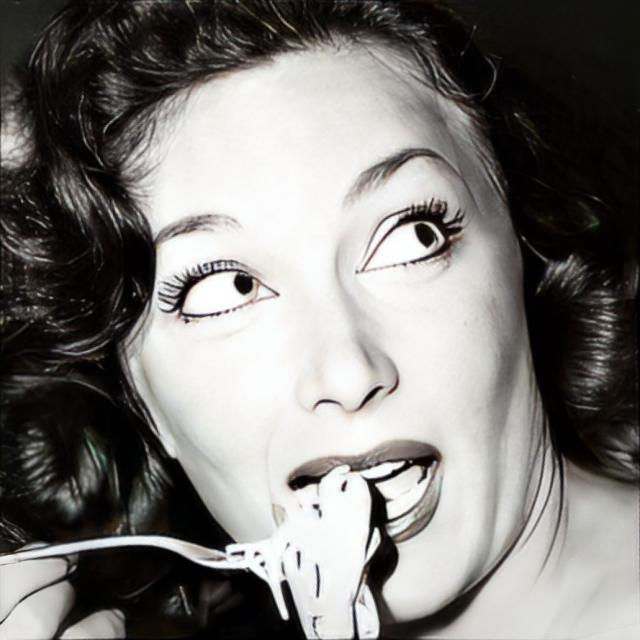fear: (117, 24, 546, 633)
